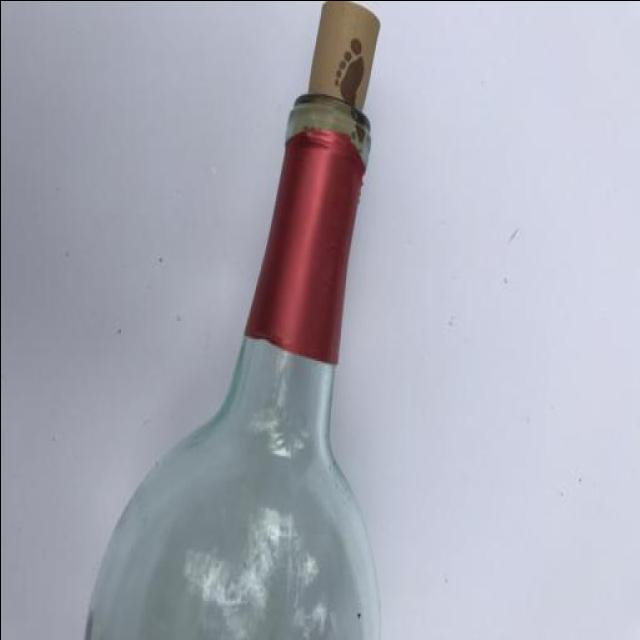glass: (83, 0, 387, 640)
